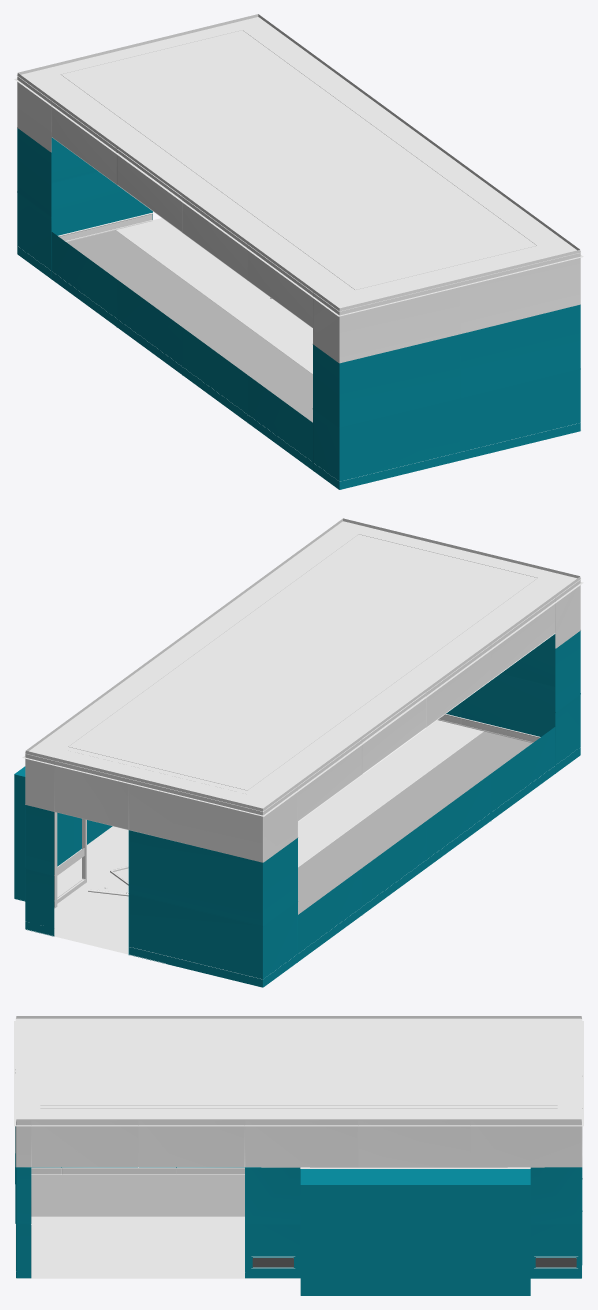
3 views of the same model, one above another, from view 1: azimuth 30°, elevation 25°; view 2: azimuth 150°, elevation 25°; view 3: azimuth 270°, elevation 25° (orthographic). The views are drawn at different scales.
Visible parts, largest first — view 1: SM_H_Building_FutureTech_HLight_01_InterWall_06; view 2: SM_H_Building_FutureTech_HLight_01_InterWall_06; view 3: SM_H_Building_FutureTech_HLight_01_InterWall_06.
Boxes of the visible parts, x1=… form: SM_H_Building_FutureTech_HLight_01_InterWall_06: x1=14, y1=14, x2=583, y2=489; SM_H_Building_FutureTech_HLight_01_InterWall_06: x1=14, y1=518, x2=583, y2=987; SM_H_Building_FutureTech_HLight_01_InterWall_06: x1=14, y1=1016, x2=583, y2=1295.
Size of the model in its own units: 429 by 217 by 133.
